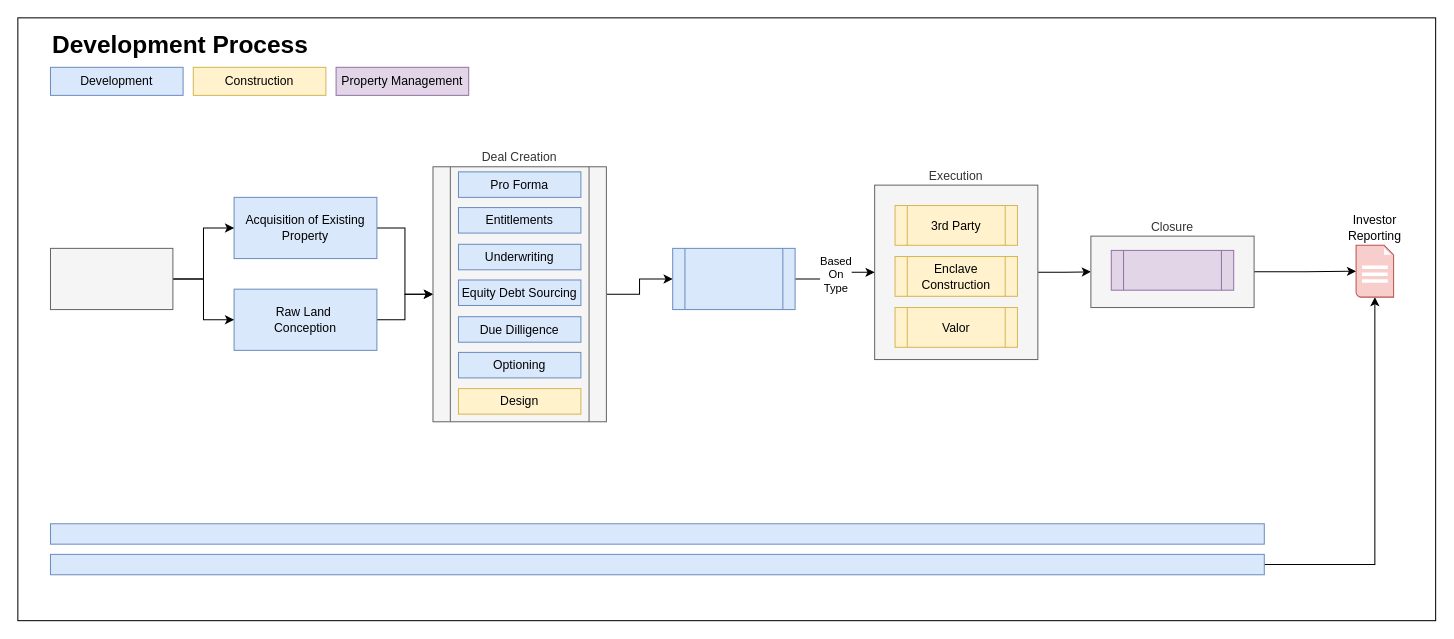
This 1454x639 diagram has some shape labels left out. The centre of each missing label's shape, as x and y in pixels:
"Deal Closure" belongs at point (733, 278).
"Enclave Property Management" belongs at point (1172, 269).
"Fiduciary Responsibility for Investors" belongs at point (656, 564).
"Holistic Project Management" belongs at point (656, 533).
"Start" belongs at point (111, 278).
